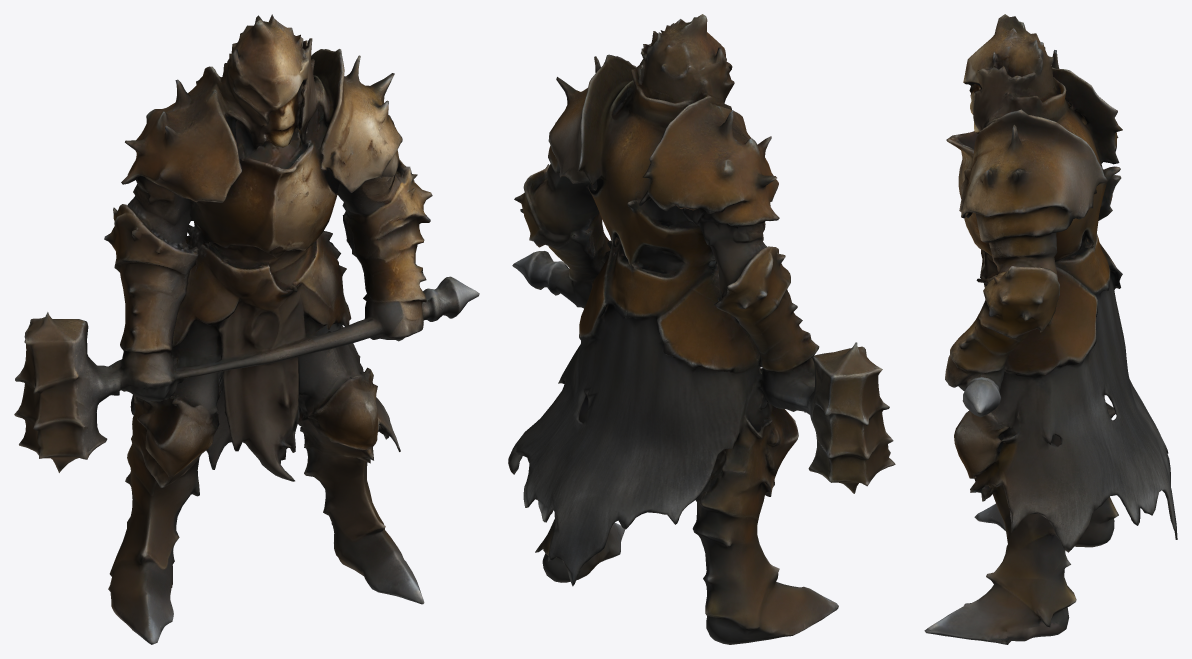
The model's file is bone_warden.glb.
The picture shows the model from 3 angles, left to right: view 1: azimuth 30°, elevation 25°; view 2: azimuth 150°, elevation 25°; view 3: azimuth 270°, elevation 25°; orthographic projection. The views are drawn at different scales.
Size of the model in its own units: 1.49 by 2 by 0.8145.
Materials: 1 (1 with a texture image).
